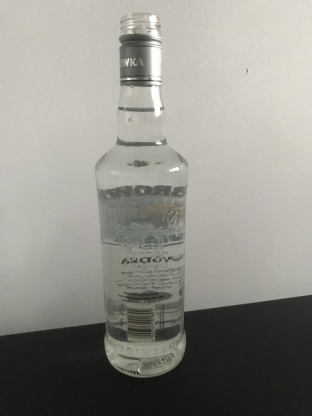nakretka: (117, 10, 164, 88)
